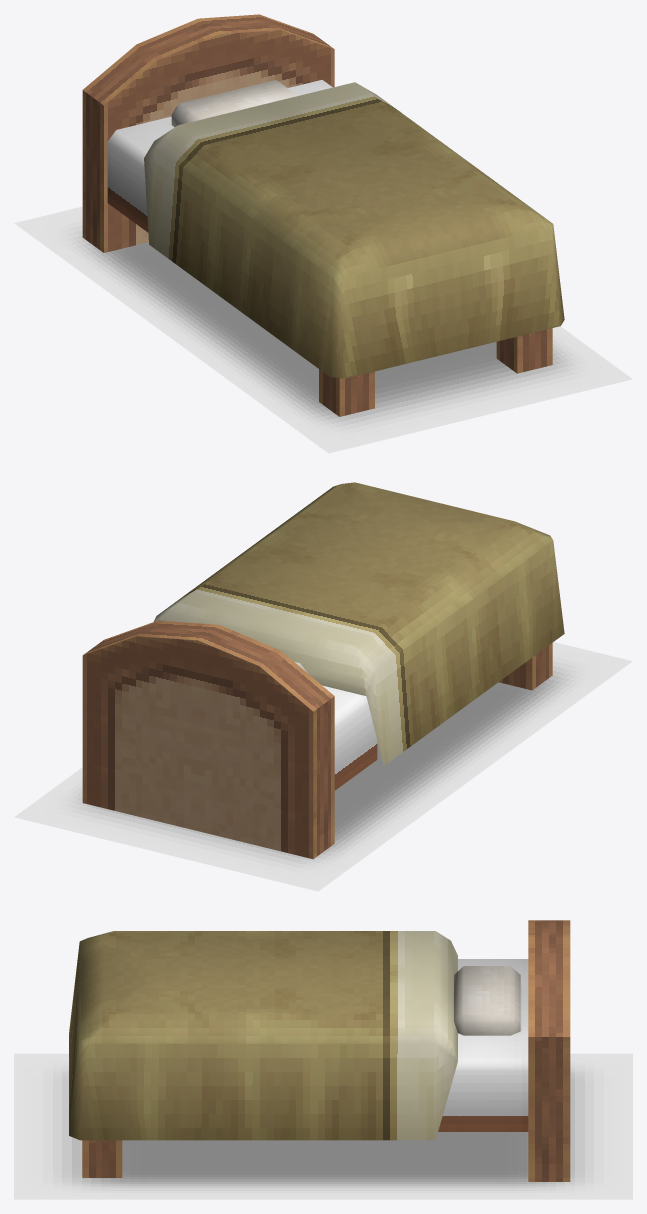
The model's file is Single Bed.fbx.
3 renders of one model, top to bottom at view 1: azimuth 30°, elevation 25°; view 2: azimuth 150°, elevation 25°; view 3: azimuth 270°, elevation 25°, orthographic.
Parts seen in each view (by area): view 1: It_069_bed, shadow; view 2: It_069_bed, shadow; view 3: It_069_bed, shadow.
Boxes of the visible parts, x1=… form: It_069_bed: x1=82, y1=14, x2=564, y2=416; shadow: x1=14, y1=206, x2=632, y2=453; It_069_bed: x1=82, y1=482, x2=564, y2=859; shadow: x1=14, y1=642, x2=632, y2=891; It_069_bed: x1=69, y1=920, x2=570, y2=1181; shadow: x1=14, y1=1053, x2=632, y2=1199.
Size of the model in its own units: 1.29 by 0.7816 by 2.31.
